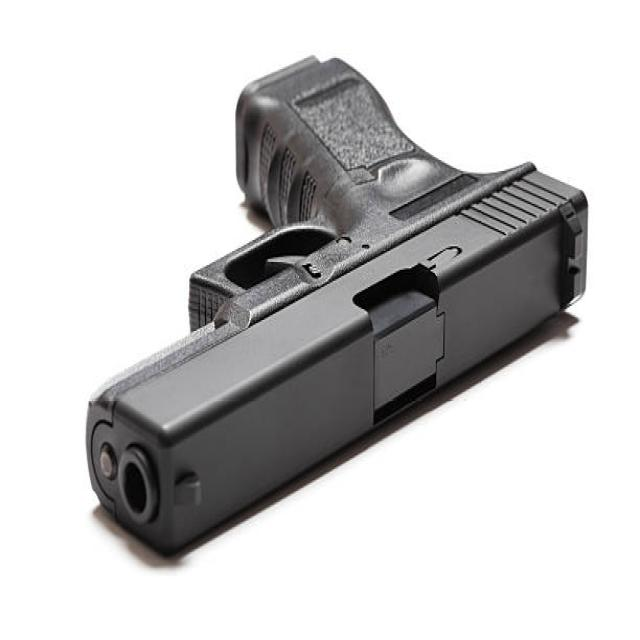pistol: (73, 40, 592, 566)
